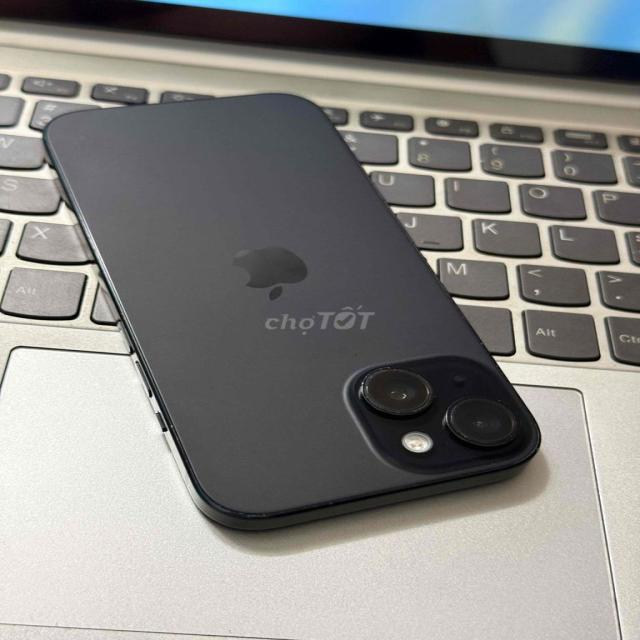gen_15: (25, 79, 537, 530)
